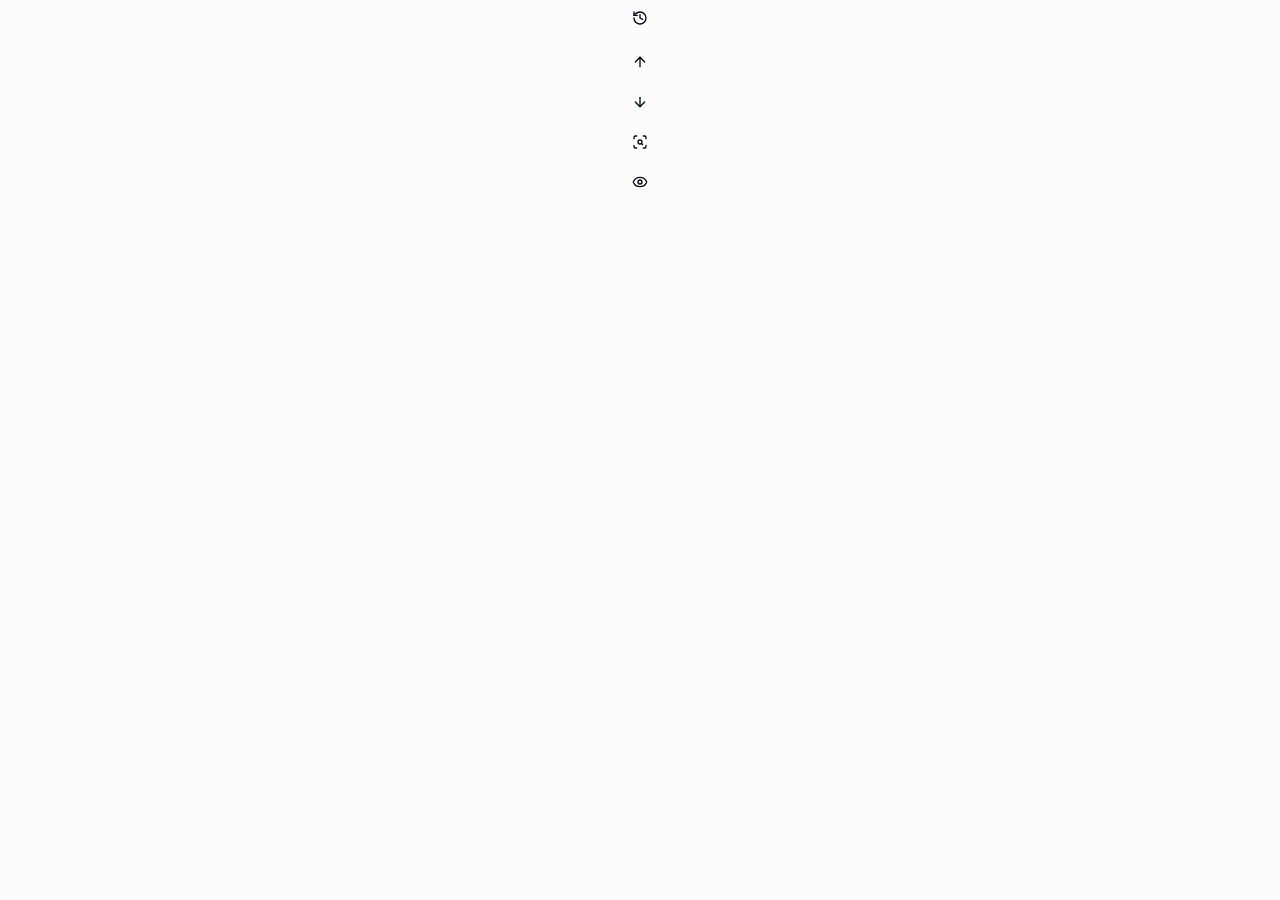
Scenario: shows an empty changed block rather than hiding a whitespace-only transition
The width and height of the screenshot is (1280, 900).
Step 1. Click the button named "Version history" → x=640, y=18, box [622, 0, 658, 36]
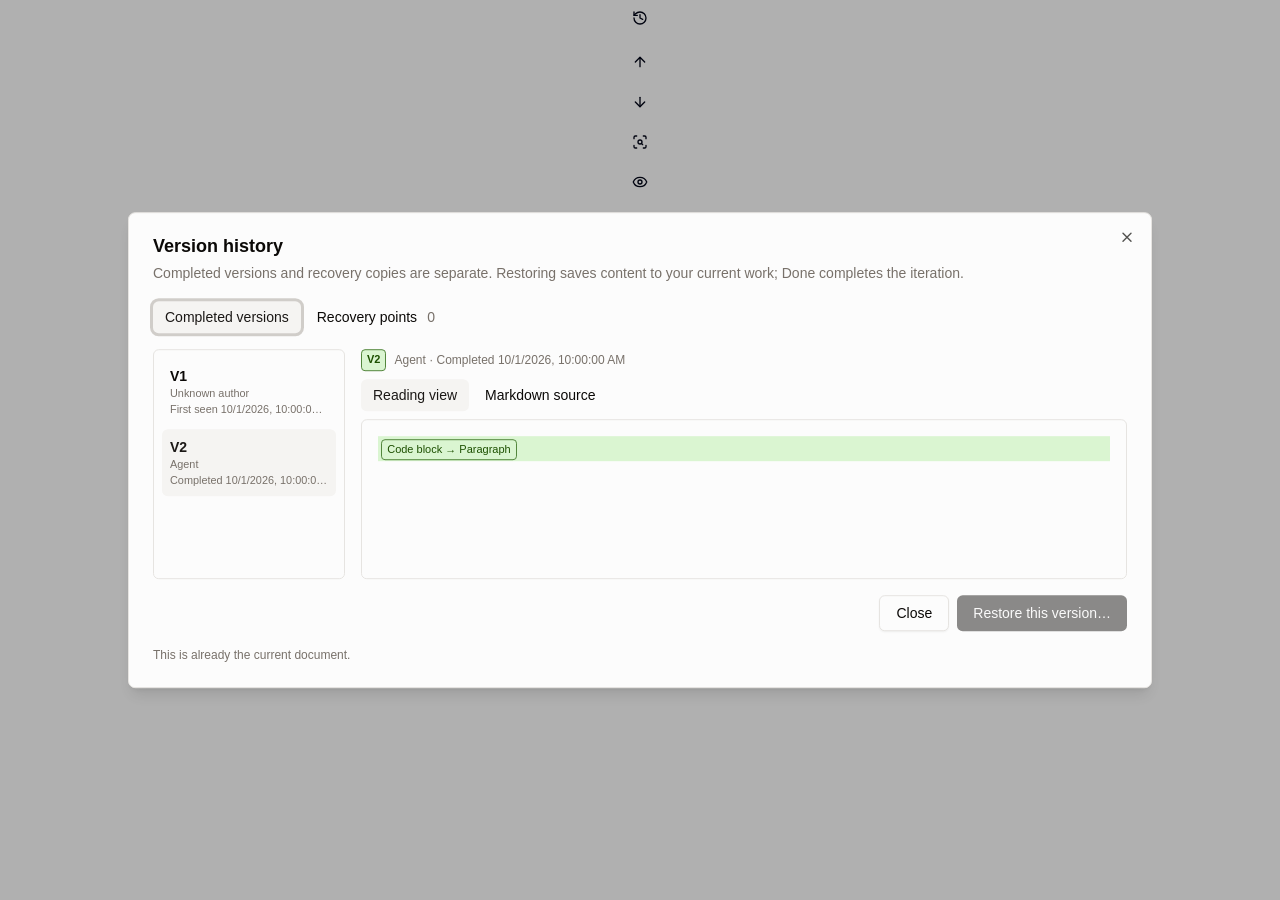
Expected: the text with test id "revision-structure-change" reads "Code block → Paragraph", [387, 443, 511, 455]
